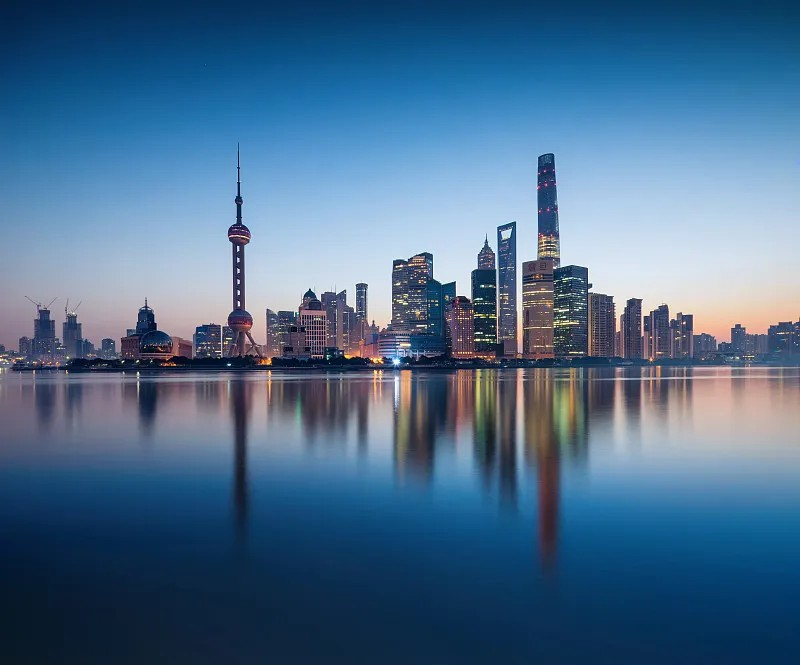Oriental: (227, 143, 264, 355)
